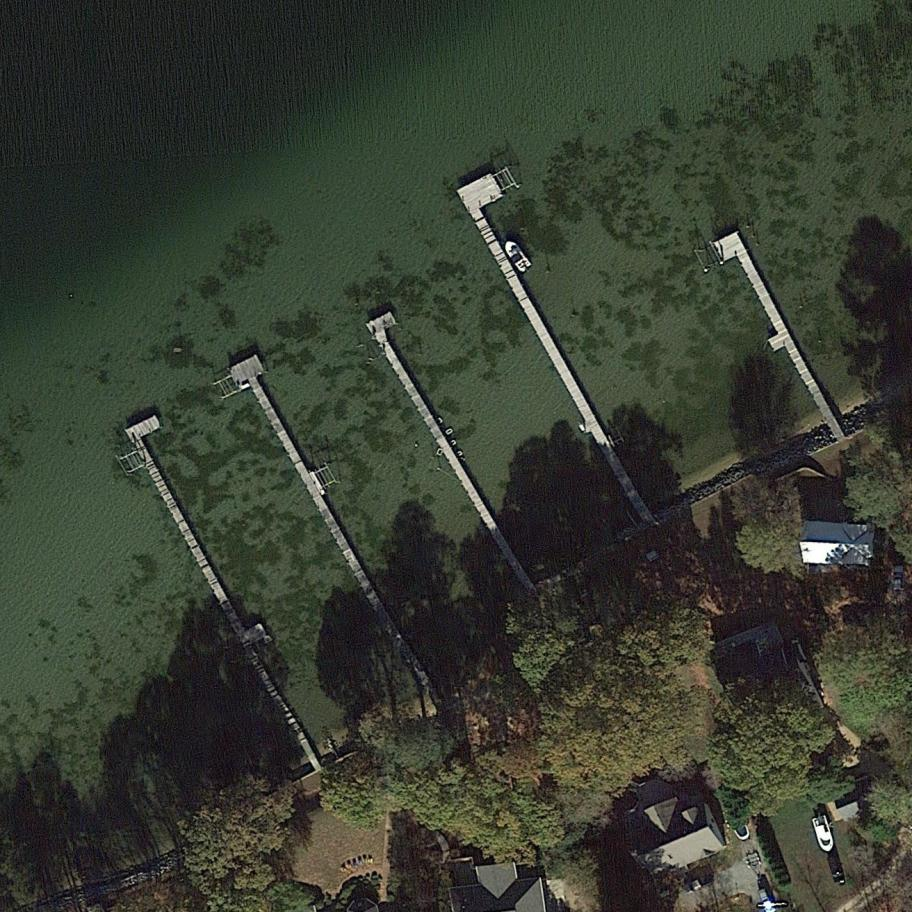ship: (499, 235, 533, 273), (808, 814, 838, 856)
small-vehicle: (826, 853, 846, 884)
